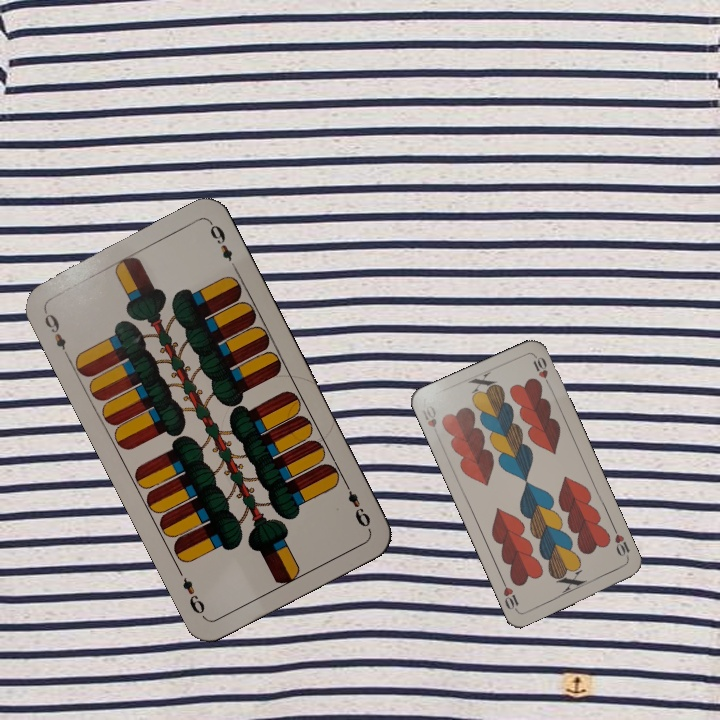E9: (39, 306, 72, 362), (340, 477, 374, 530)
H10: (417, 401, 442, 440), (609, 524, 633, 562)
